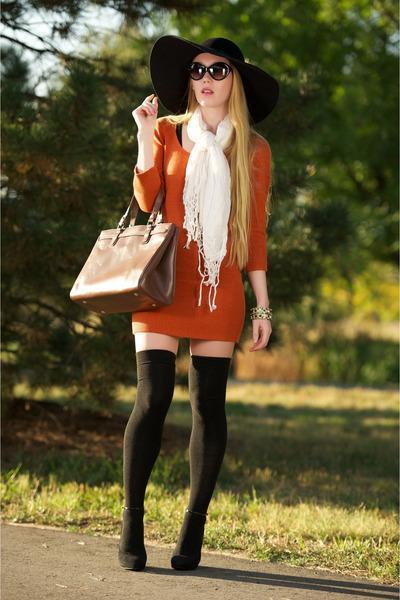bag: (70, 206, 176, 327)
hat: (144, 36, 280, 126)
jacket: (132, 119, 272, 346)
shoe: (125, 533, 203, 574)
